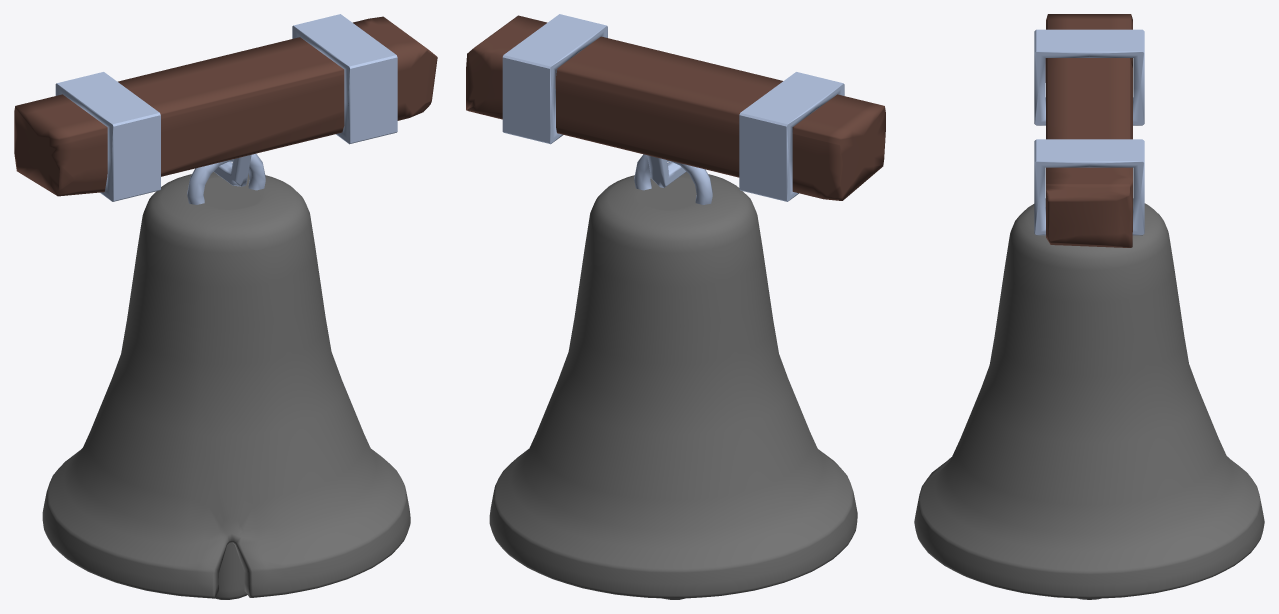
File: LargebellAsset.fbx
The picture shows the model from 3 angles, left to right: view 1: azimuth 30°, elevation 25°; view 2: azimuth 150°, elevation 25°; view 3: azimuth 270°, elevation 25°; orthographic projection. The views are drawn at different scales.
Parts seen in each view (by area): view 1: Cube.011; view 2: Cube.011; view 3: Cube.011.
Part boxes in pixels (bbox=[...]): Cube.011: bbox=[14, 14, 437, 599]; Cube.011: bbox=[466, 14, 885, 599]; Cube.011: bbox=[914, 14, 1264, 599].
Size of the model in its own units: 126 by 105 by 164.
